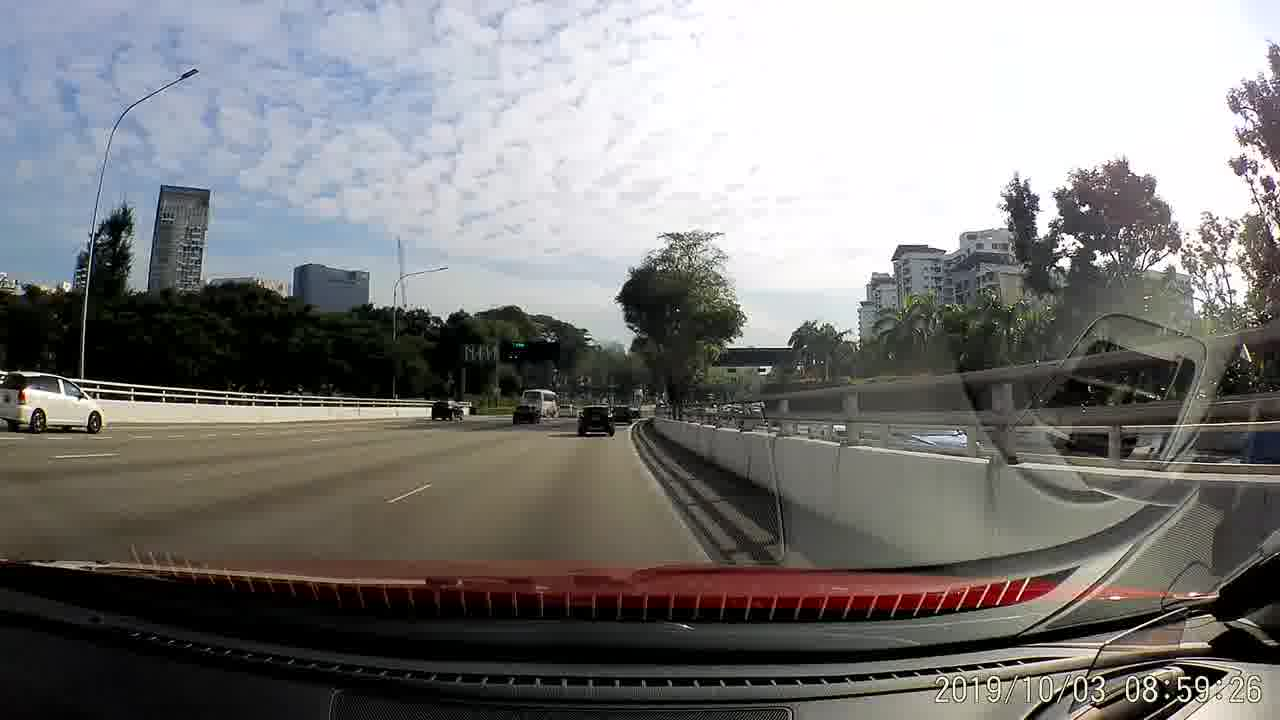bus: (520, 385, 561, 418)
car: (2, 369, 104, 435), (576, 403, 617, 438), (428, 397, 464, 423), (512, 401, 540, 425), (611, 404, 633, 427)
